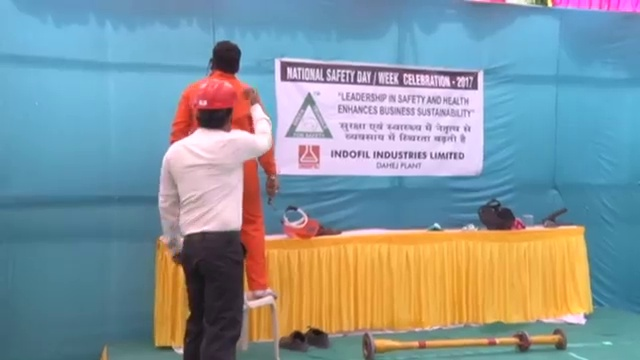helmet: (193, 78, 241, 112)
helmet_off: (207, 38, 243, 76)
helmet_on: (192, 77, 236, 134)
person: (161, 74, 265, 360), (175, 38, 282, 295)
